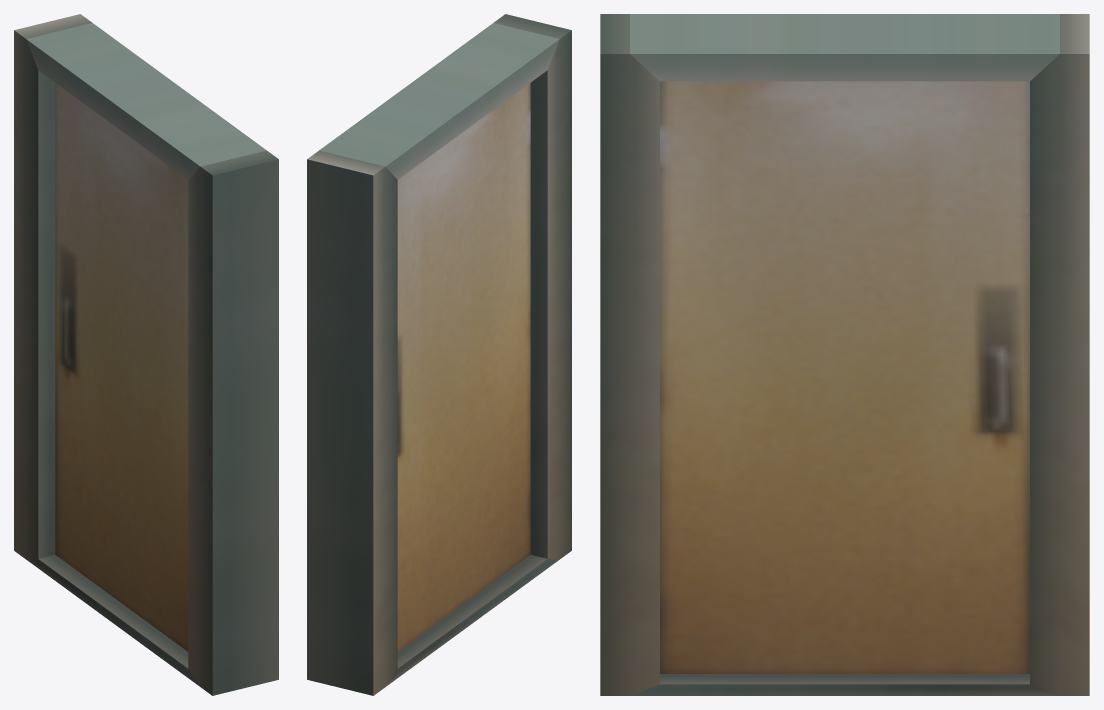
Rendered from door02.fbx.
The picture shows the model from 3 angles, left to right: view 1: azimuth 30°, elevation 25°; view 2: azimuth 150°, elevation 25°; view 3: azimuth 270°, elevation 25°; orthographic projection. The views are drawn at different scales.
Parts seen in each view (by area): view 1: door02; view 2: door02; view 3: door02.
Part boxes in pixels (<box>): door02: <box>14,14,278,695</box>; door02: <box>307,14,571,695</box>; door02: <box>600,14,1089,695</box>.
Bounding box in the file's own units: 50.1 × 375 × 259.
